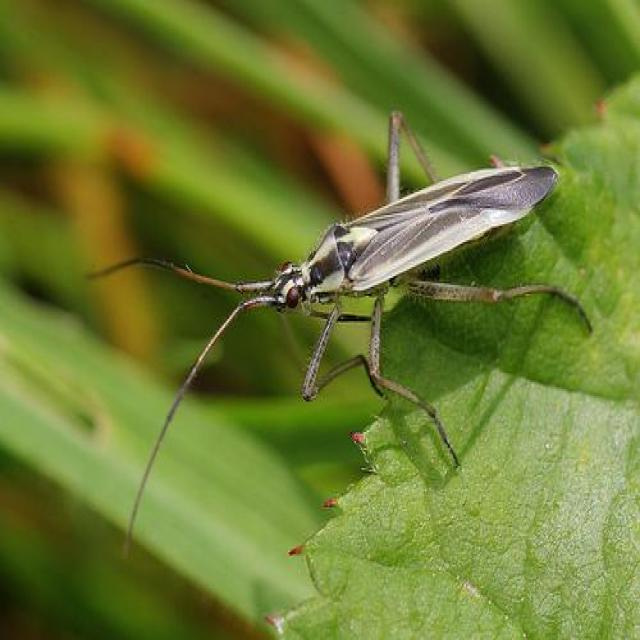Miridae-Adult-: (76, 113, 580, 492)
